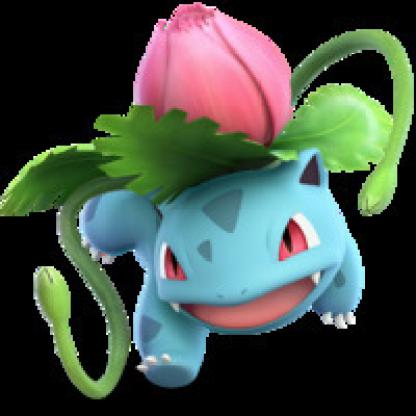Ivysaur: (1, 5, 415, 407)
